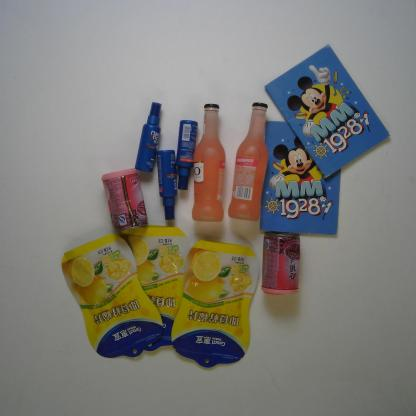Alcohol: (228, 101, 269, 222), (192, 102, 226, 224)
Canned Food: (101, 166, 150, 232), (261, 230, 301, 296)
Dried Fruit: (61, 232, 164, 358), (169, 239, 261, 368), (118, 224, 191, 353)
Personal Hygiene: (134, 101, 162, 173), (174, 119, 198, 190), (156, 148, 179, 220)
Stationery: (264, 42, 392, 180), (260, 118, 341, 235)
